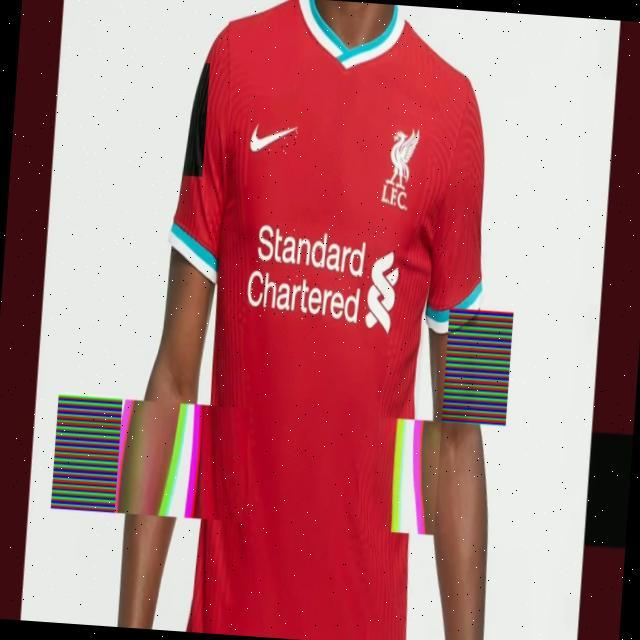Nike: (250, 125, 298, 155)
Standard Chartered: (247, 218, 401, 329)
